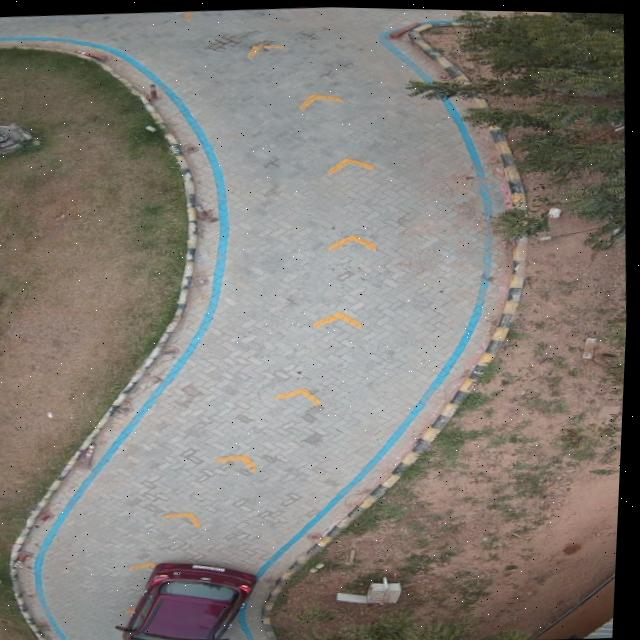car: (124, 560, 260, 640)
